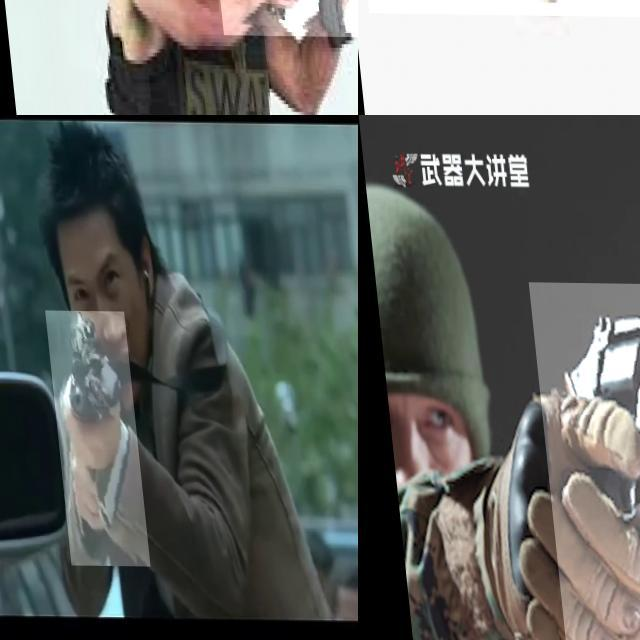gun-knife-thesis - v11 Yolov5 augmented: (524, 282, 640, 640), (358, 0, 640, 106), (39, 310, 140, 566), (204, 0, 358, 78)
